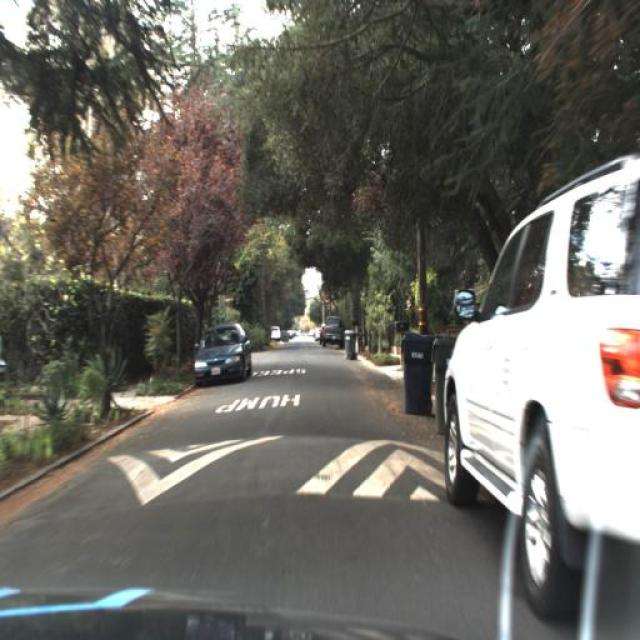car: (444, 154, 638, 614), (190, 322, 250, 386), (316, 314, 348, 351), (268, 322, 284, 342)
